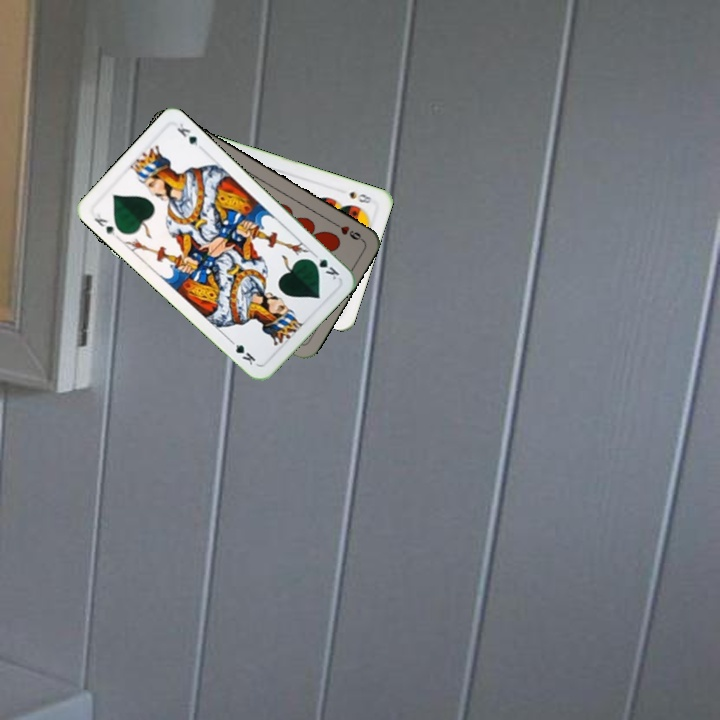GK: (306, 249, 342, 283), (90, 207, 119, 238)
H9: (328, 218, 365, 243)
S8: (345, 187, 375, 206)
